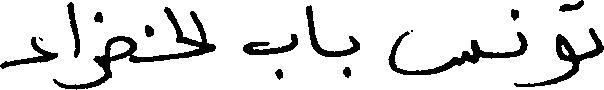X: (389, 25, 479, 79), (0, 32, 56, 88), (165, 2, 215, 64), (247, 29, 295, 84), (556, 0, 578, 88), (87, 7, 108, 89), (110, 31, 135, 82), (67, 0, 79, 89), (517, 5, 526, 89), (305, 0, 318, 58), (348, 31, 359, 82), (589, 23, 603, 62)
